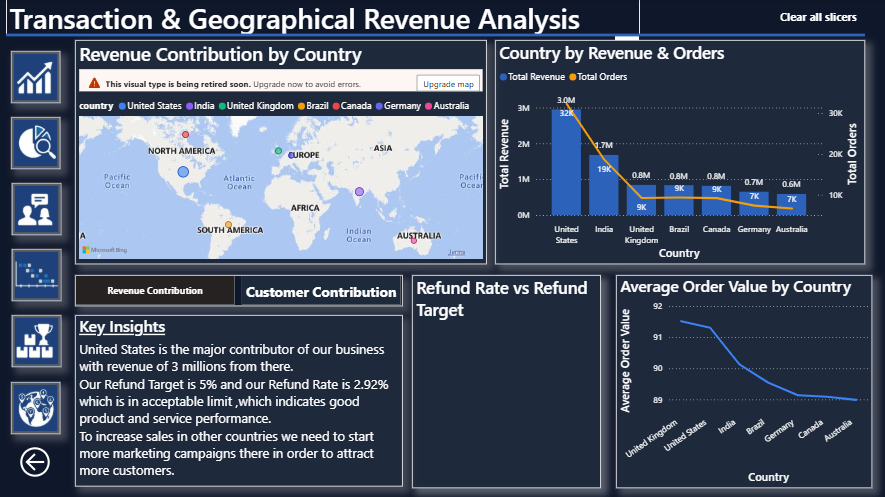

The dashboard page shown, as its layout file describes it:
{"tool":"powerbi","page":{"name":"Transaction & Geo  Revenue Analysis","canvas":[1280,720],"ordinal":6},"visuals":[{"type":"textbox","title":"Transaction & Geographical Revenue Analysis","box":[10.1,0,913,51.8],"z":0},{"type":"shape","box":[10.1,44.6,1237,14.4],"z":1000},{"type":"lineStackedColumnComboChart","title":"Country by Revenue & Orders","fields":{"Category":["customers.country"],"Y":["Sum(transactions.gross_revenue)"],"Y2":["transactions.Total Orders"]},"box":[714.2,59,532.8,322.6],"z":3000},{"type":"lineChart","title":"Average Order Value by Country","fields":{"Category":["customers.country"],"Y":["transactions.Average Order Value"]},"box":[888.5,397.4,368.6,306.7],"z":4000},{"type":"advancedGauge97290A2225EA4EB5BC5C8D85F9ACA7DA","title":"Refund Rate vs Refund Target","fields":{"value1":["transactions.Refund Rate"],"target1":["transactions.Refund Target"]},"box":[594.7,397.4,272.2,306.7],"z":5000},{"type":"map","title":"Revenue Contribution by Country ","fields":{"Category":["customers.country"],"Series":["customers.country"],"Size":["Sum(transactions.gross_revenue)"]},"box":[109.4,59,593.3,322.6],"z":6000},{"type":"shape","box":[17.3,74.9,70.6,74.9],"z":7000},{"type":"shape","box":[17.3,169.9,70.6,74.9],"z":8000},{"type":"shape","box":[17.3,265,70.6,74.9],"z":9000},{"type":"shape","box":[17.3,360,70.6,74.9],"z":10000},{"type":"shape","box":[17.3,455,70.6,74.9],"z":11000},{"type":"shape","box":[17.3,551.5,70.6,74.9],"z":12000},{"type":"actionButton","box":[24.5,639.4,57.6,54.7],"z":13000},{"type":"image","box":[18.7,74.9,69.1,74.9],"z":14000},{"type":"image","box":[18.7,169.9,69.1,74.9],"z":15000},{"type":"image","box":[18.7,265,69.1,74.9],"z":16000},{"type":"image","box":[18.7,360,69.1,74.9],"z":17000},{"type":"image","box":[18.7,455,69.1,74.9],"z":18000},{"type":"image","box":[18.7,551.5,69.1,74.9],"z":19000},{"type":"actionButton","box":[17.3,74.9,70.6,74.9],"z":20000},{"type":"actionButton","box":[17.3,169.9,70.6,74.9],"z":21000},{"type":"actionButton","box":[18.7,265,70.6,74.9],"z":22000},{"type":"actionButton","box":[18.7,360,70.6,74.9],"z":23000},{"type":"actionButton","box":[18.7,455,70.6,74.9],"z":24000},{"type":"actionButton","box":[17.3,551.5,70.6,74.9],"z":25000},{"type":"actionButton","box":[1103,4.3,154.1,41.8],"z":26000},{"type":"bookmarkNavigator","box":[110.1,397.4,471.8,44.7],"z":27000},{"type":"textbox","title":"Key Insights","box":[110.1,455.4,471.8,247.1],"z":28000}]}

Visuals, with their boxes in screenshot pixels (x1, y1, x2, y2), scaled from the page's 1280x720 canvas onto the 885x497 screenshot:
"Transaction & Geographical Revenue Analysis" textbox: locate(7, 0, 638, 36)
shape: locate(7, 31, 862, 41)
"Country by Revenue & Orders" lineStackedColumnComboChart: locate(494, 41, 862, 263)
"Average Order Value by Country" lineChart: locate(614, 274, 869, 486)
"Refund Rate vs Refund Target" advancedGauge97290A2225EA4EB5BC5C8D85F9ACA7DA: locate(411, 274, 599, 486)
"Revenue Contribution by Country " map: locate(76, 41, 486, 263)
shape: locate(12, 52, 61, 103)
shape: locate(12, 117, 61, 169)
shape: locate(12, 183, 61, 235)
shape: locate(12, 248, 61, 300)
shape: locate(12, 314, 61, 366)
shape: locate(12, 381, 61, 432)
actionButton: locate(17, 441, 57, 479)
image: locate(13, 52, 61, 103)
image: locate(13, 117, 61, 169)
image: locate(13, 183, 61, 235)
image: locate(13, 248, 61, 300)
image: locate(13, 314, 61, 366)
image: locate(13, 381, 61, 432)
actionButton: locate(12, 52, 61, 103)
actionButton: locate(12, 117, 61, 169)
actionButton: locate(13, 183, 62, 235)
actionButton: locate(13, 248, 62, 300)
actionButton: locate(13, 314, 62, 366)
actionButton: locate(12, 381, 61, 432)
actionButton: locate(763, 3, 869, 32)
bookmarkNavigator: locate(76, 274, 402, 305)
"Key Insights" textbox: locate(76, 314, 402, 485)
